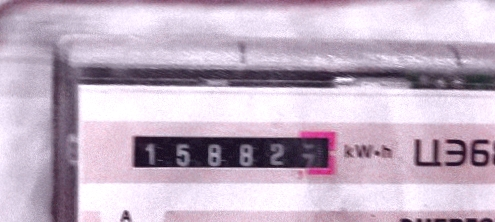1: (143, 141, 157, 166)
2: (269, 140, 285, 166)
5: (174, 141, 190, 167)
7: (300, 150, 314, 167)
8: (237, 140, 253, 166), (205, 142, 222, 166)
screen: (118, 120, 345, 184)
